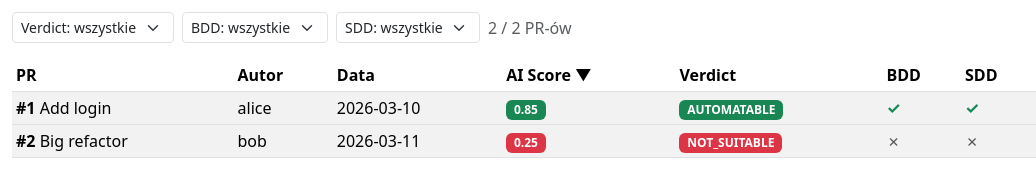
ProjectPrTable › filters by verdict
Select "AUTOMATABLE" in the 1st dropdown at {"x": 93, "y": 28}, box [12,12,174,43]
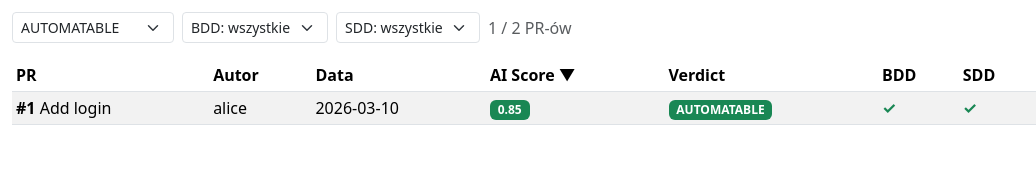
Check: the text "Add login" is shown, box [40,97,111,119]
Check: the button "Big refactor" is gone
